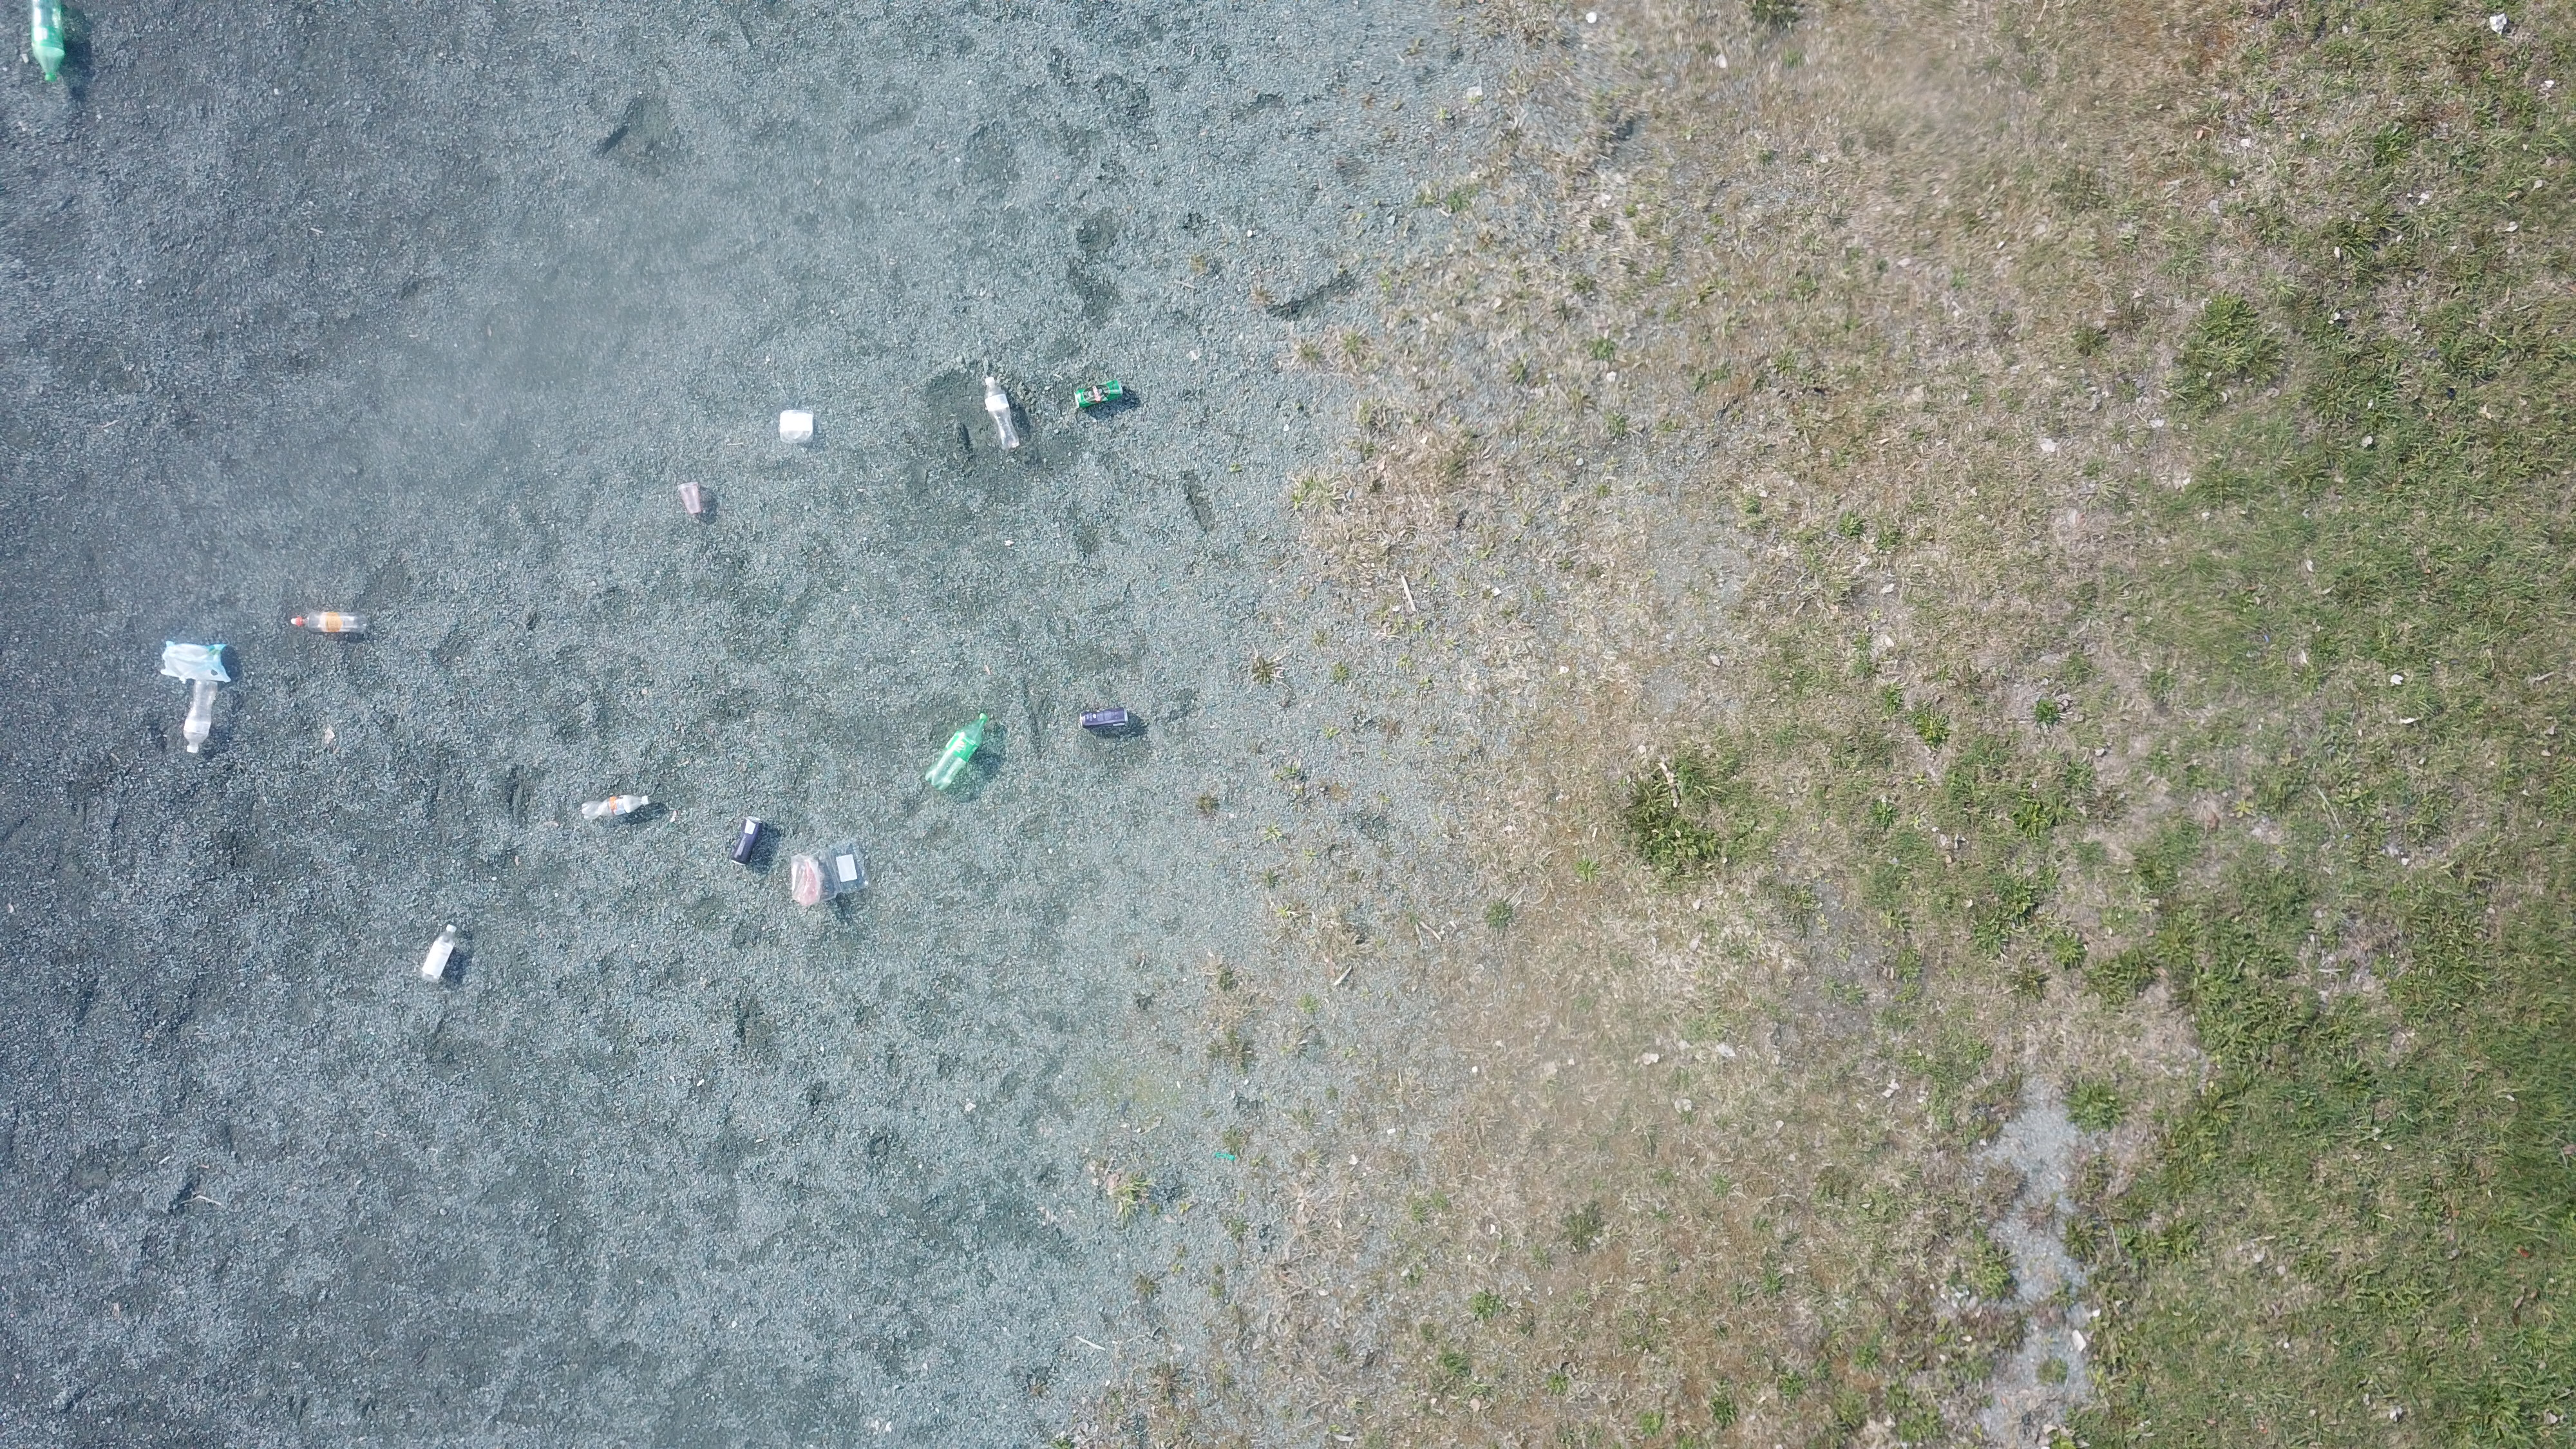Can: (731, 816, 764, 869), (1076, 379, 1125, 410), (1079, 706, 1129, 732)
Plastic: (791, 839, 872, 909), (161, 642, 232, 681), (780, 410, 817, 448), (676, 481, 702, 517), (1215, 1152, 1238, 1162)
PlasticBottle: (925, 713, 989, 791), (25, 0, 69, 88), (982, 377, 1021, 451), (184, 679, 218, 754), (288, 609, 368, 635), (423, 925, 458, 982), (582, 793, 651, 821)
